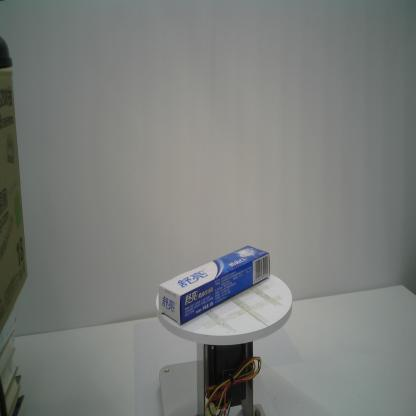Personal Hygiene: (157, 244, 271, 326)
